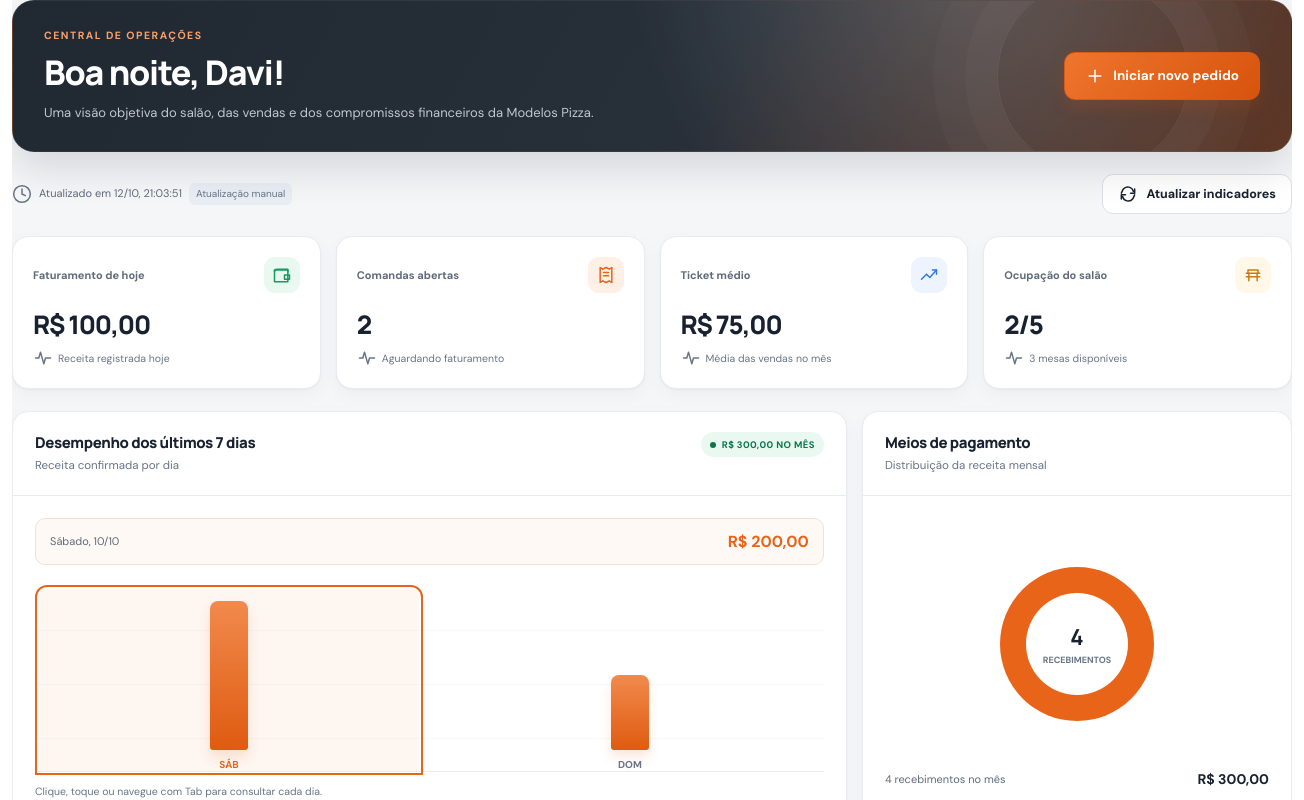
barras de receita exibem valor acessível por foco e toque
Expected: the message shows "200,00", top-left (728, 531), bottom-right (809, 552)
Step 1. Click the button "Dom" → (630, 680), box top-left (440, 589), bottom-right (820, 771)
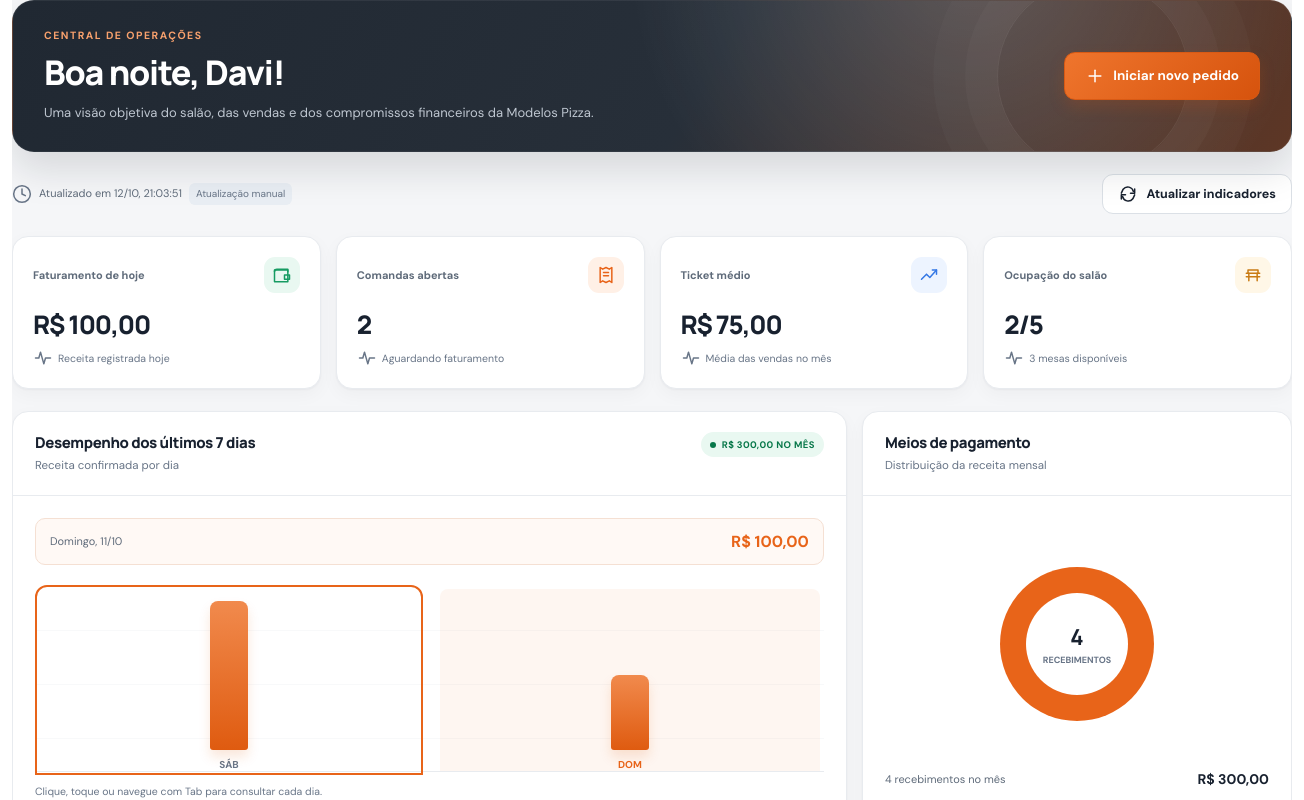
Now the message shows "100,00", box top-left (731, 531), bottom-right (809, 552)
